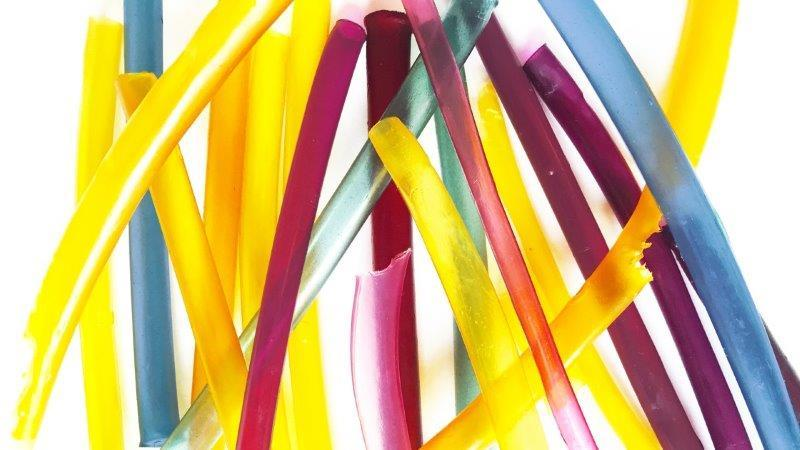plastic: (366, 0, 794, 448), (11, 0, 366, 450)
